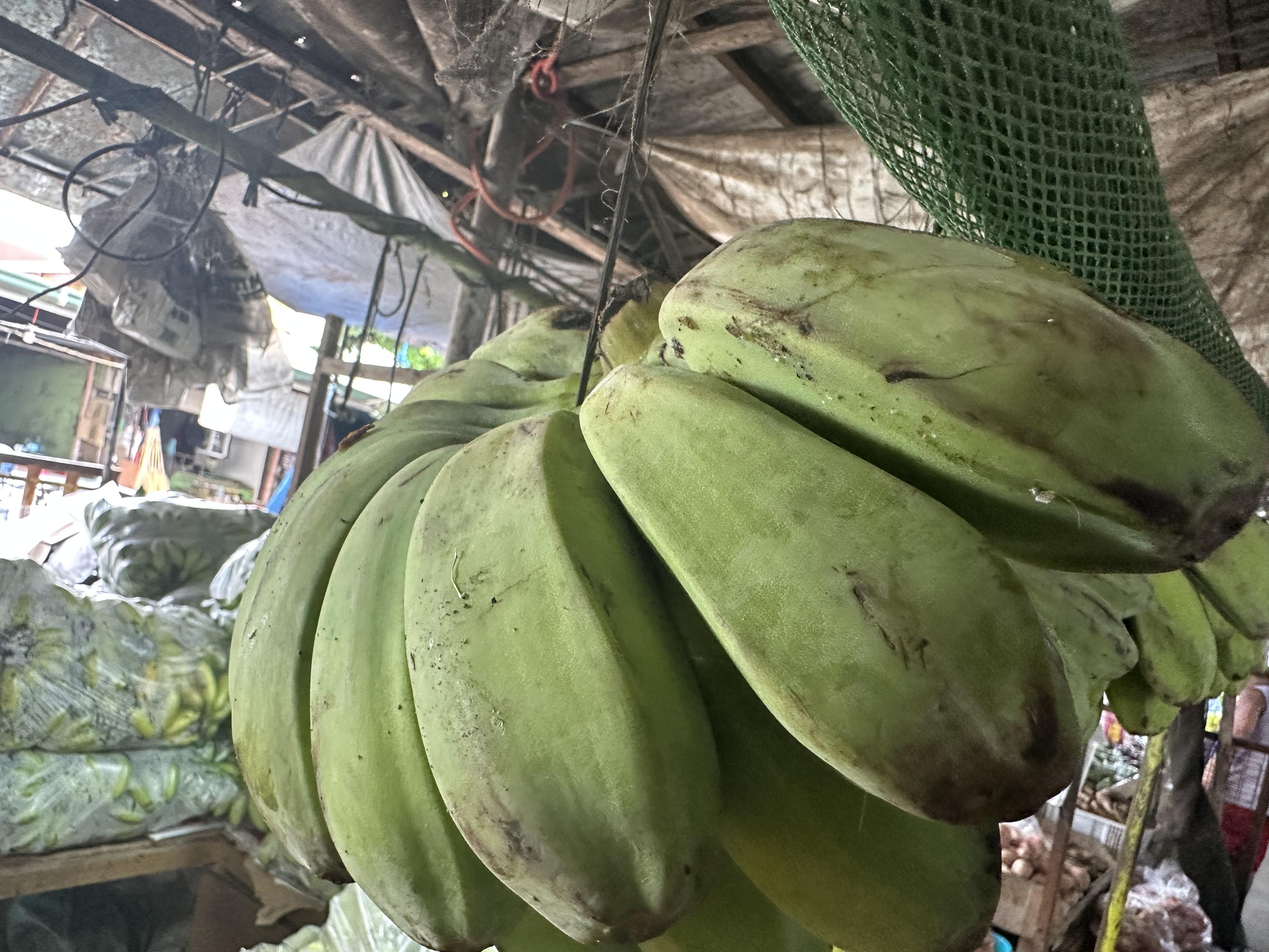underripe: (225, 222, 1268, 952), (1106, 516, 1269, 736), (1006, 558, 1153, 744)
